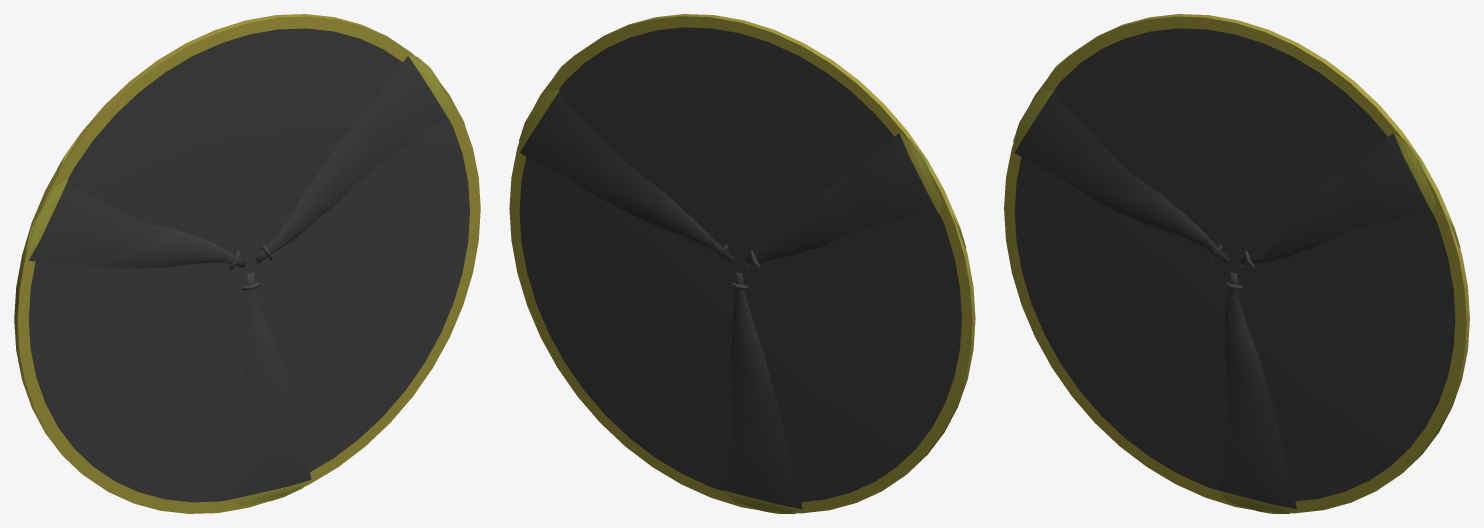
The model's file is F4uCorsair_propeller_fast.glb.
The picture shows the model from 3 angles, left to right: view 1: azimuth 30°, elevation 25°; view 2: azimuth 150°, elevation 25°; view 3: azimuth 330°, elevation 25°; orthographic projection.
Visible parts, largest first — view 1: Cylinder.012, Cylinder.002; view 2: Cylinder.012, Cylinder.002; view 3: Cylinder.012, Cylinder.002.
Boxes of the visible parts, left/top/right/bottom form: Cylinder.012: left=14, top=14, right=480, bottom=513; Cylinder.002: left=26, top=55, right=464, bottom=513; Cylinder.012: left=509, top=14, right=975, bottom=513; Cylinder.002: left=519, top=54, right=966, bottom=513; Cylinder.012: left=1004, top=14, right=1469, bottom=513; Cylinder.002: left=1013, top=54, right=1460, bottom=513.
Bounding box in the file's own units: 4.14 × 4.14 × 0.1772.
